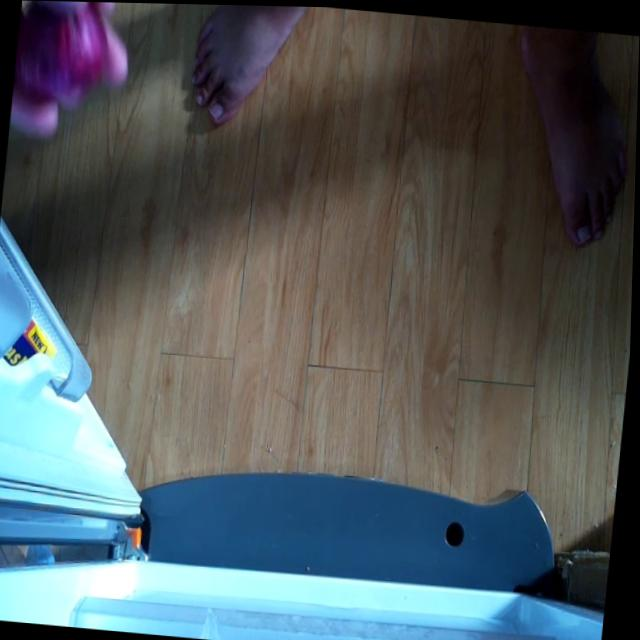onion: (14, 0, 117, 92)
